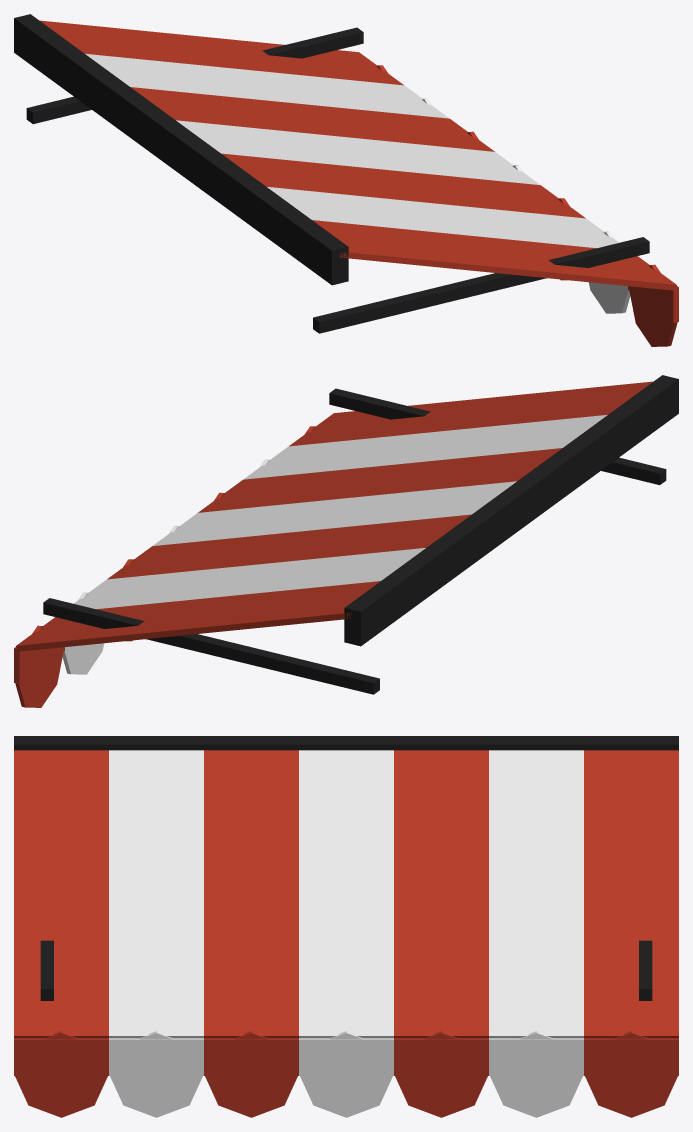
The model's file is SM_Build_Markise_Rot_Weiss.fbx.
3 views of the same model, one above another, from view 1: azimuth 30°, elevation 25°; view 2: azimuth 150°, elevation 25°; view 3: azimuth 270°, elevation 25° (orthographic). The views are drawn at different scales.
Parts seen in each view (by area): view 1: Markise Rot-Weiß; view 2: Markise Rot-Weiß; view 3: Markise Rot-Weiß.
Boxes of the visible parts, box(x1,y1,x2,y2) form: Markise Rot-Weiß: box(14, 14, 678, 346); Markise Rot-Weiß: box(14, 375, 678, 707); Markise Rot-Weiß: box(14, 736, 678, 1117).
Bounding box in the file's own units: 1.26 × 0.6809 × 2.
